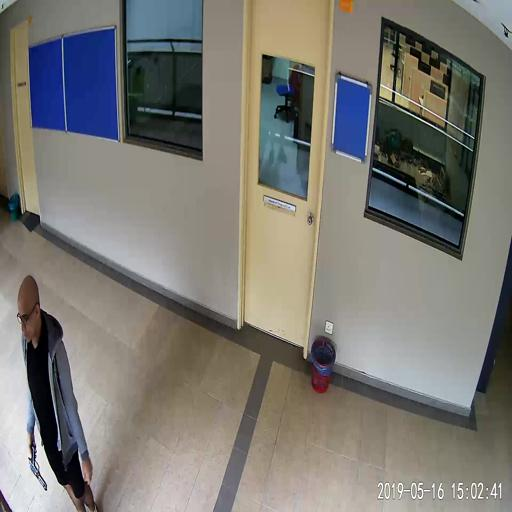pistol: (27, 442, 46, 488)
